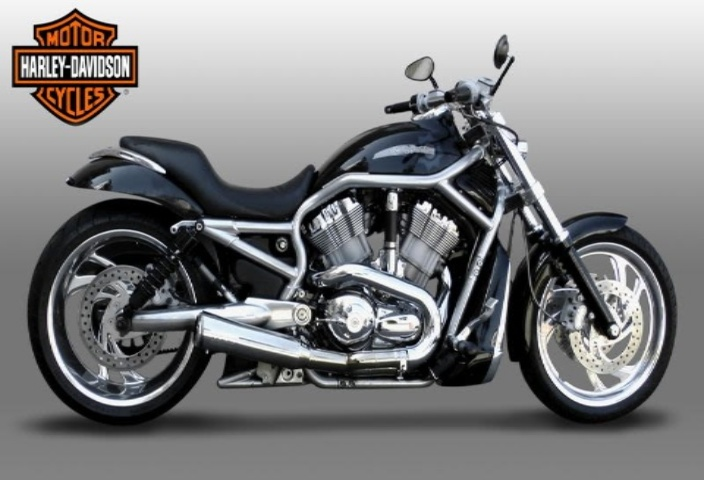motorcycle: (22, 26, 689, 446)
